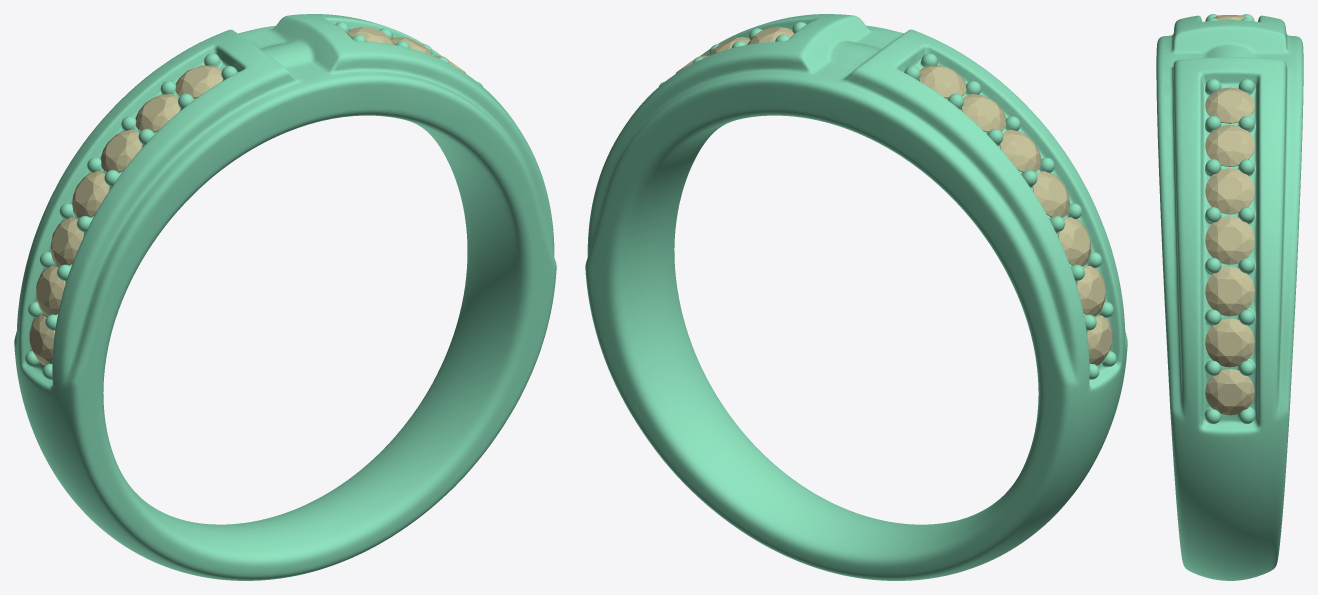
The picture shows the model from 3 angles, left to right: view 1: azimuth 30°, elevation 25°; view 2: azimuth 150°, elevation 25°; view 3: azimuth 270°, elevation 25°; orthographic projection. The views are drawn at different scales.
Visible parts, largest first — view 1: Metal02, Diamond_Gem, Diamond_Gem.006, Diamond_Gem.001, Diamond_Gem.005, Diamond_Gem.004, Diamond_Gem.002, Diamond_Gem.003; view 2: Metal02, Diamond_Gem, Diamond_Gem.006, Diamond_Gem.001, Diamond_Gem.005, Diamond_Gem.004, Diamond_Gem.002, Diamond_Gem.003; view 3: Metal02, Diamond_Gem.008, Diamond_Gem.009, Diamond_Gem.007, Diamond_Gem.010, Diamond_Gem.013, Diamond_Gem.012, Diamond_Gem.011.
Boxes of the visible parts, left/top/right/bottom form: Metal02: left=14, top=14, right=556, bottom=580; Diamond_Gem: left=72, top=171, right=109, bottom=217; Diamond_Gem.006: left=100, top=129, right=142, bottom=172; Diamond_Gem.001: left=50, top=217, right=83, bottom=266; Diamond_Gem.005: left=135, top=94, right=180, bottom=132; Diamond_Gem.004: left=175, top=65, right=223, bottom=98; Diamond_Gem.002: left=36, top=265, right=65, bottom=316; Diamond_Gem.003: left=29, top=315, right=55, bottom=365; Metal02: left=585, top=14, right=1127, bottom=580; Diamond_Gem: left=1032, top=171, right=1069, bottom=217; Diamond_Gem.006: left=999, top=129, right=1041, bottom=172; Diamond_Gem.001: left=1058, top=217, right=1091, bottom=266; Diamond_Gem.005: left=961, top=94, right=1006, bottom=132; Diamond_Gem.004: left=918, top=65, right=966, bottom=98; Diamond_Gem.002: left=1076, top=265, right=1105, bottom=316; Diamond_Gem.003: left=1086, top=315, right=1112, bottom=365; Metal02: left=1156, top=14, right=1303, bottom=580; Diamond_Gem.008: left=1205, top=267, right=1254, bottom=316; Diamond_Gem.009: left=1205, top=318, right=1254, bottom=367; Diamond_Gem.007: left=1205, top=216, right=1254, bottom=264; Diamond_Gem.010: left=1205, top=369, right=1254, bottom=415; Diamond_Gem.013: left=1205, top=168, right=1254, bottom=214; Diamond_Gem.012: left=1205, top=124, right=1254, bottom=166; Diamond_Gem.011: left=1205, top=87, right=1254, bottom=123.
Bounding box in the file's own units: 21.62 × 21.79 × 5.67.
